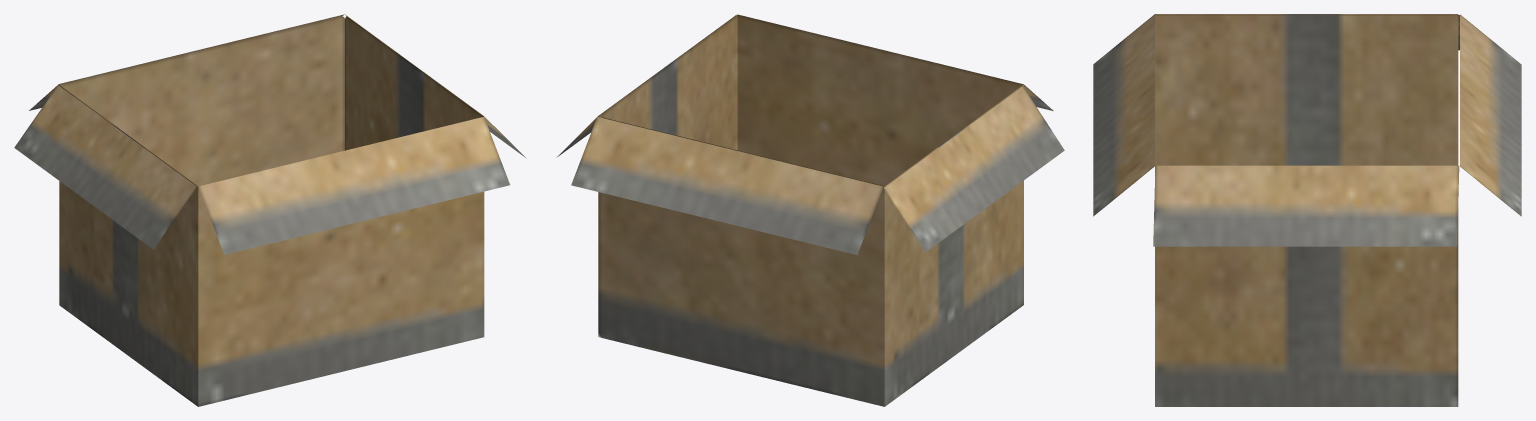
The picture shows the model from 3 angles, left to right: view 1: azimuth 30°, elevation 25°; view 2: azimuth 150°, elevation 25°; view 3: azimuth 270°, elevation 25°; orthographic projection. The views are drawn at different scales.
Parts seen in each view (by area): view 1: cube; view 2: cube; view 3: cube.
Part boxes in pixels (x1,y1,x2,y2): cube: (14, 14, 526, 406); cube: (556, 14, 1064, 406); cube: (1093, 14, 1521, 406).
Size of the model in its own units: 154 by 87.76 by 141.
1 material, 1 textured.
